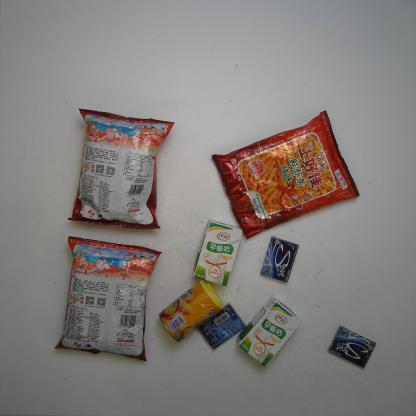Canned Food: (156, 278, 228, 344)
Gum: (325, 322, 378, 370), (197, 300, 244, 354), (256, 233, 300, 284)
Milk: (234, 292, 302, 371), (193, 218, 244, 288)
Puffed Food: (209, 108, 367, 243), (62, 104, 176, 233), (52, 235, 160, 364)
